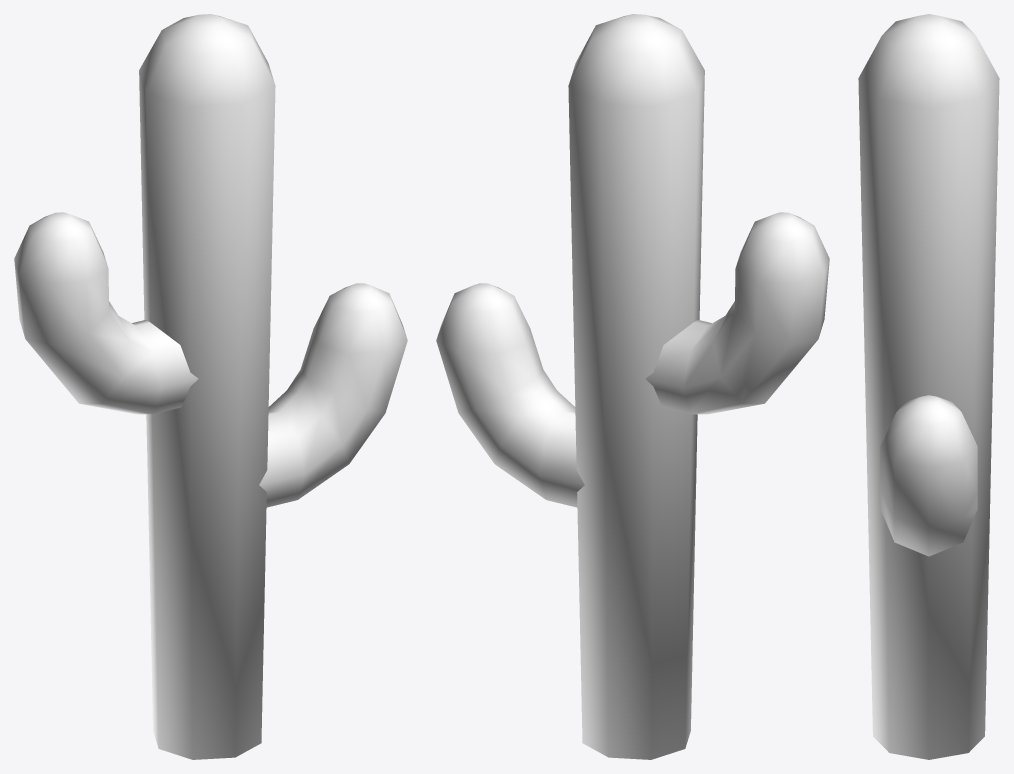
The model's file is DesertCactus01.glb.
The picture shows the model from 3 angles, left to right: view 1: azimuth 30°, elevation 25°; view 2: azimuth 150°, elevation 25°; view 3: azimuth 270°, elevation 25°; orthographic projection.
Parts seen in each view (by area): view 1: SesertCactus01; view 2: SesertCactus01; view 3: SesertCactus01.
Part boxes in pixels (x1,y1,x2,y2): SesertCactus01: [14, 14, 407, 759]; SesertCactus01: [436, 14, 829, 759]; SesertCactus01: [858, 14, 999, 759].
Bounding box in the file's own units: 2.22 × 3.97 × 0.7086.
1 material, 1 textured.
